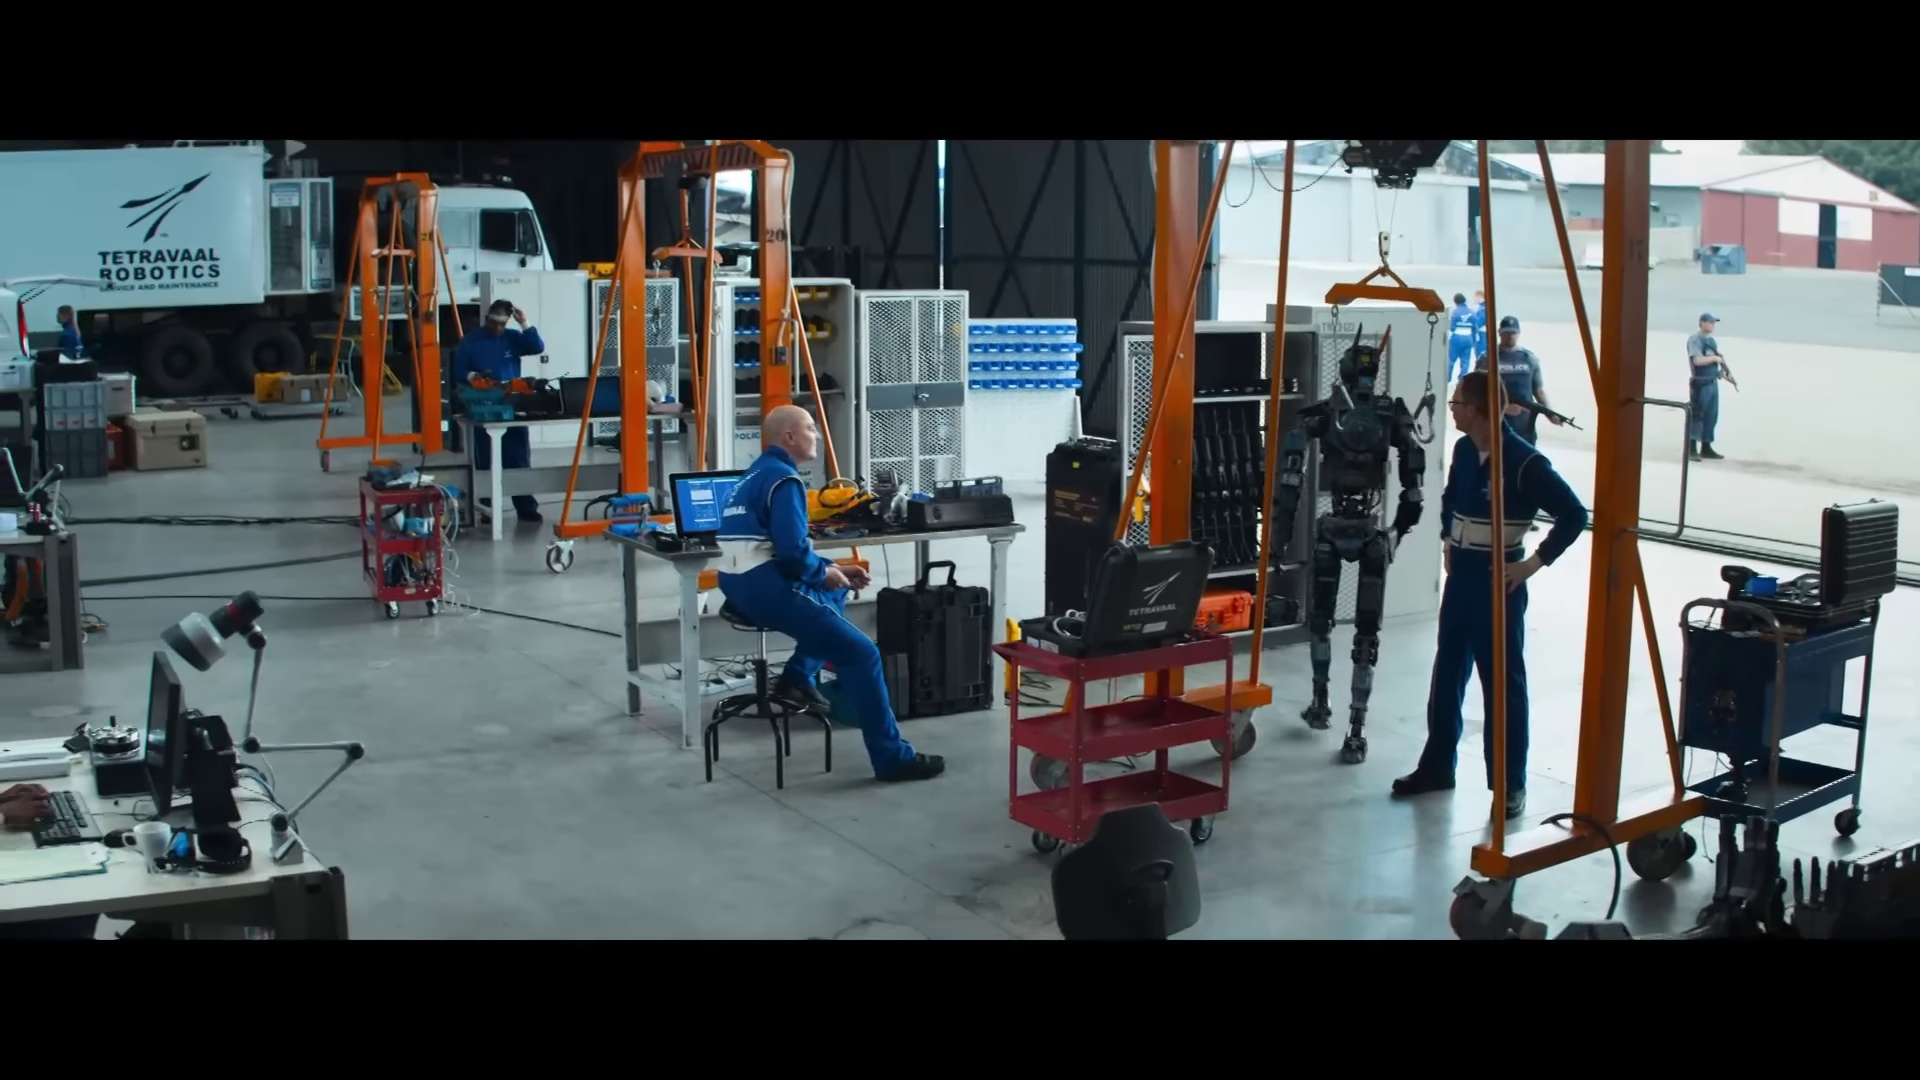gun: (1503, 390, 1585, 446), (1704, 342, 1738, 392)
p_w_gun: (1468, 315, 1585, 452), (1684, 311, 1739, 462)
p_wo_gun_not_carrying_normal_pose: (712, 401, 945, 782), (1391, 369, 1589, 819), (452, 297, 546, 525), (1447, 291, 1473, 380), (54, 302, 84, 364)
